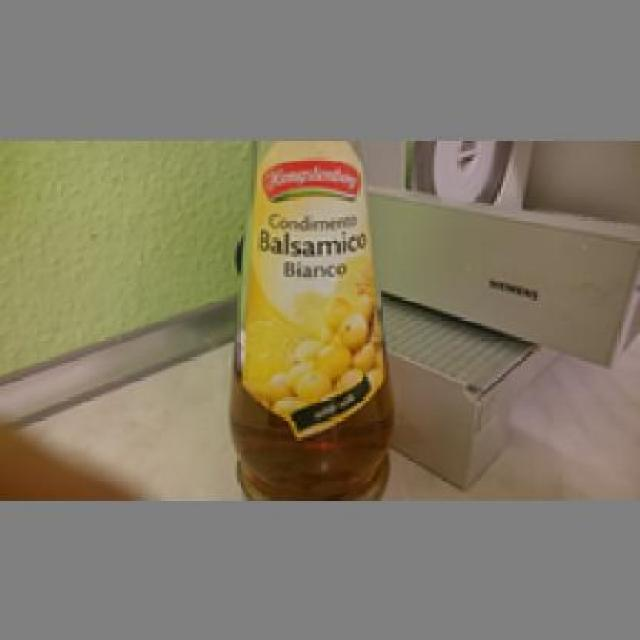Vinegar: (226, 137, 394, 497)
